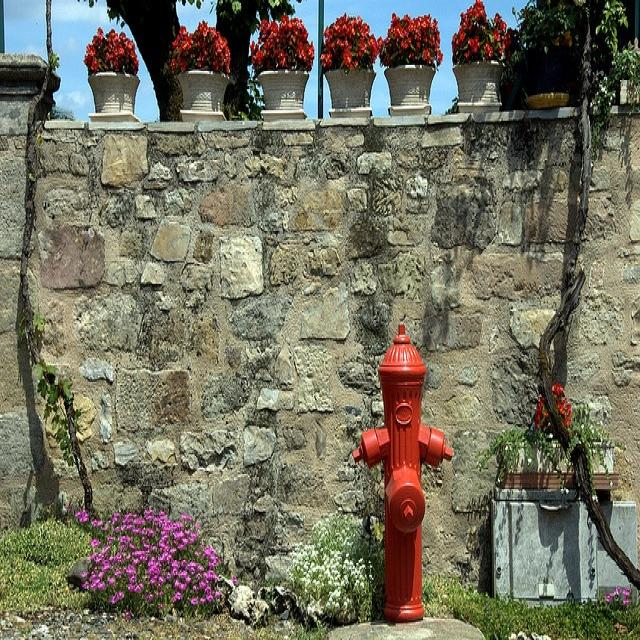fire_hydrant: (351, 320, 451, 616)
